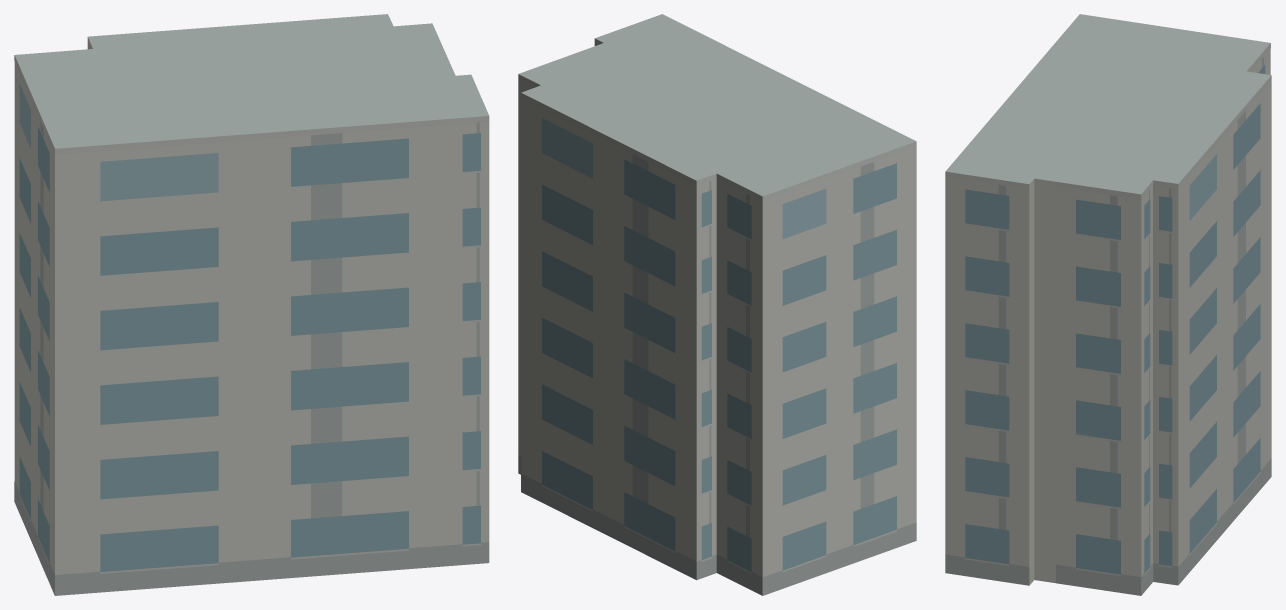
File: survey-upis-32890042.glb
The picture shows the model from 3 angles, left to right: view 1: azimuth 30°, elevation 25°; view 2: azimuth 150°, elevation 25°; view 3: azimuth 270°, elevation 25°; orthographic projection. The views are drawn at different scales.
Parts seen in each view (by area): view 1: survey-upis-32890042.tmp; view 2: survey-upis-32890042.tmp; view 3: survey-upis-32890042.tmp.
Boxes of the visible parts, x1=… form: survey-upis-32890042.tmp: x1=14, y1=14, x2=489, y2=595; survey-upis-32890042.tmp: x1=518, y1=14, x2=916, y2=595; survey-upis-32890042.tmp: x1=945, y1=14, x2=1271, y2=595.
Size of the model in its own units: 17.79 by 18.45 by 13.6.
